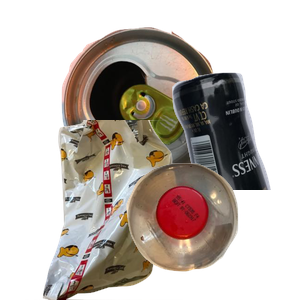glass: (106, 70, 300, 250)
metal: (59, 10, 273, 189)
plastic: (124, 161, 300, 300)
trash: (25, 120, 198, 300)
